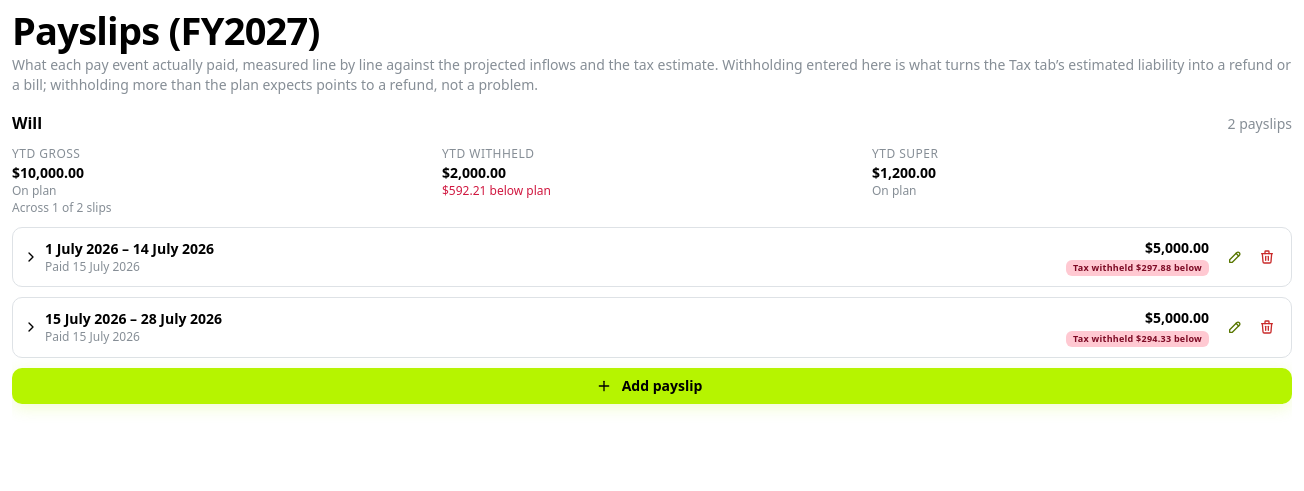
Test case: PayslipsScreen › expands each card on its own
Click the button "15 July 2026 – 28 July 2026": (134, 318) [23,308,1209,347]
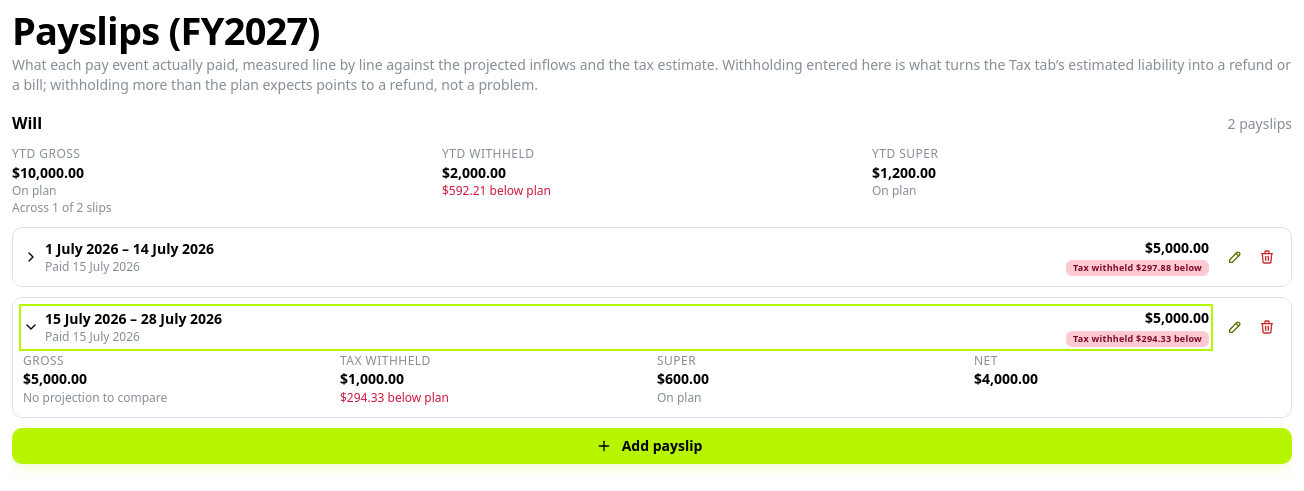
Expected: the button "15 July 2026 – 28 July 2026" is expanded, [23,308,1209,347]
